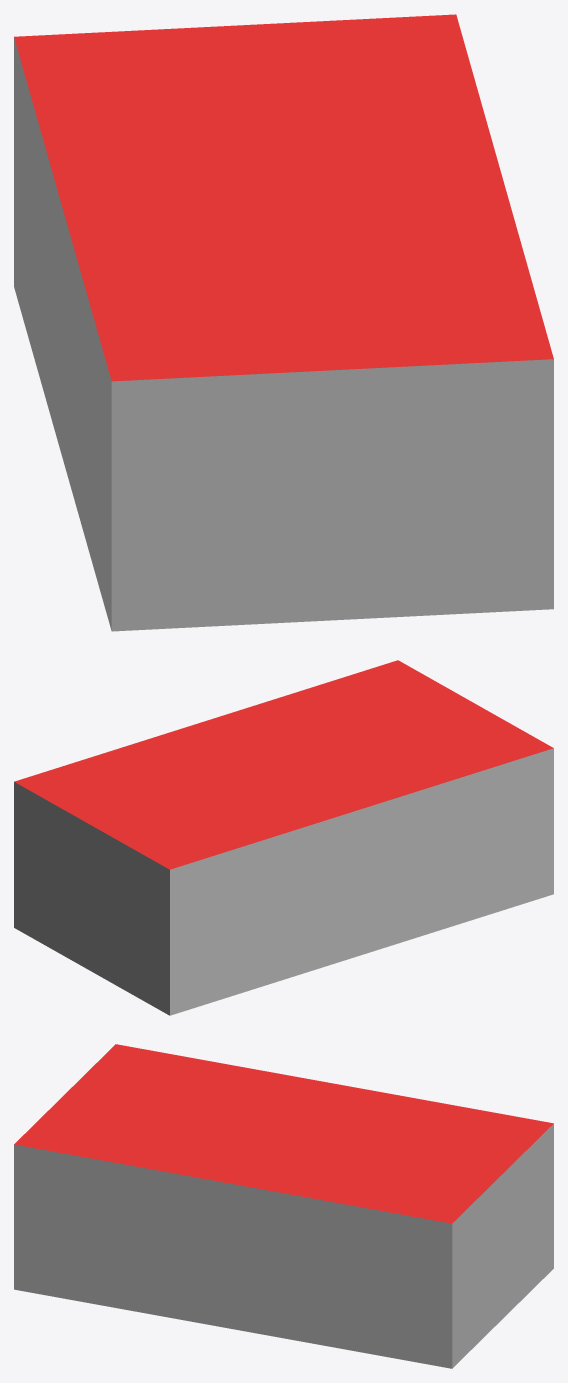
The model's file is DEBY_LOD2_8573617.dae.
The picture shows the model from 3 angles, top to bottom: view 1: azimuth 30°, elevation 25°; view 2: azimuth 150°, elevation 25°; view 3: azimuth 270°, elevation 25°; orthographic projection. The views are drawn at different scales.
Size of the model in its own units: 7.14 by 9.07 by 2.69.
